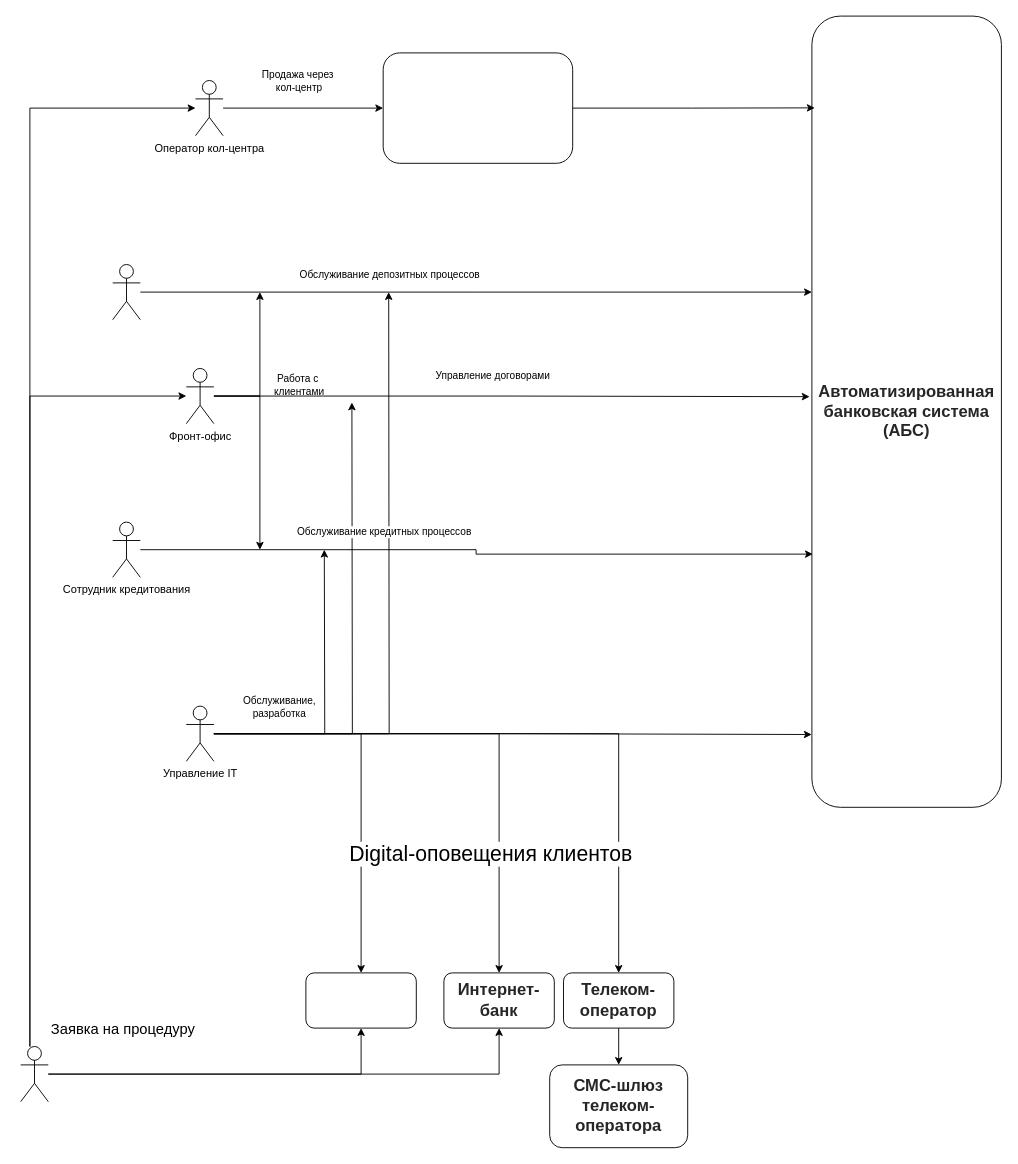
Some shapes in this 1018 by 1164 pixel diagram are drawn without their labels. The shapes that lost their labels are listed below. From the top down, each one's centre as x and y in pixels, then its label:
At point (477, 107): "Система кол-центра".
At point (126, 292): "Сотрудник депозитов".
At point (360, 1000): "Сайт".
At point (34, 1074): "Клиент".
